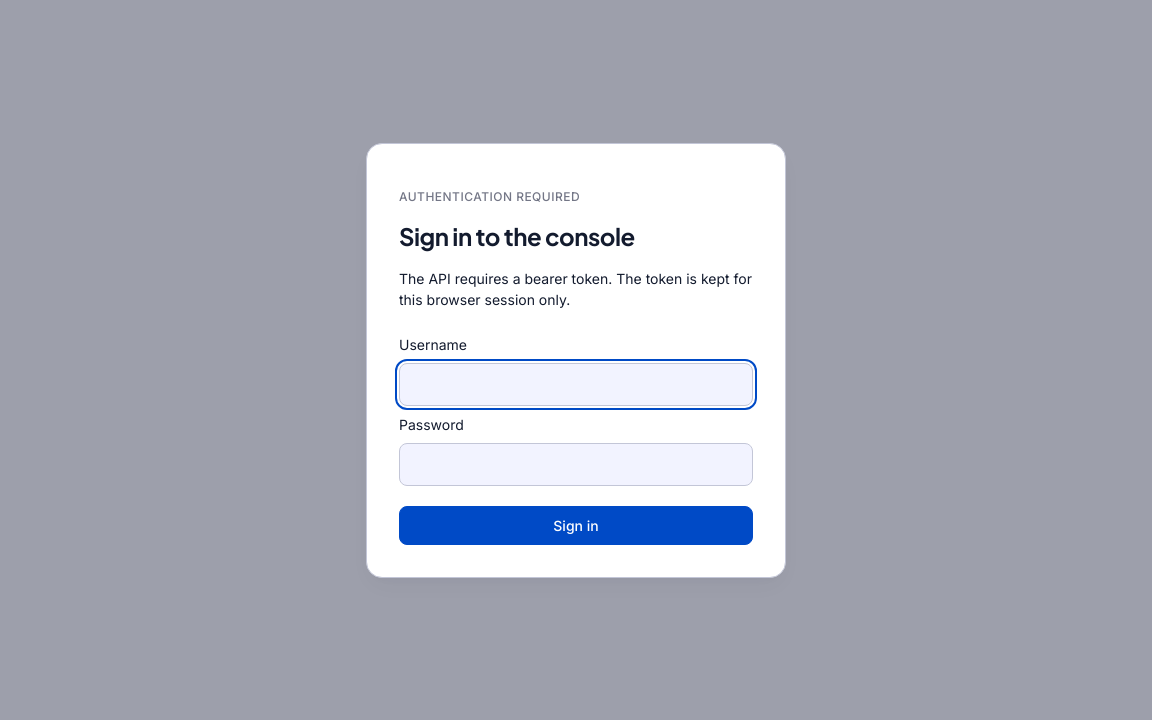
SignIn › explains a missing field before calling the API
Click the button "Sign in": (576, 525) [399,506,753,544]
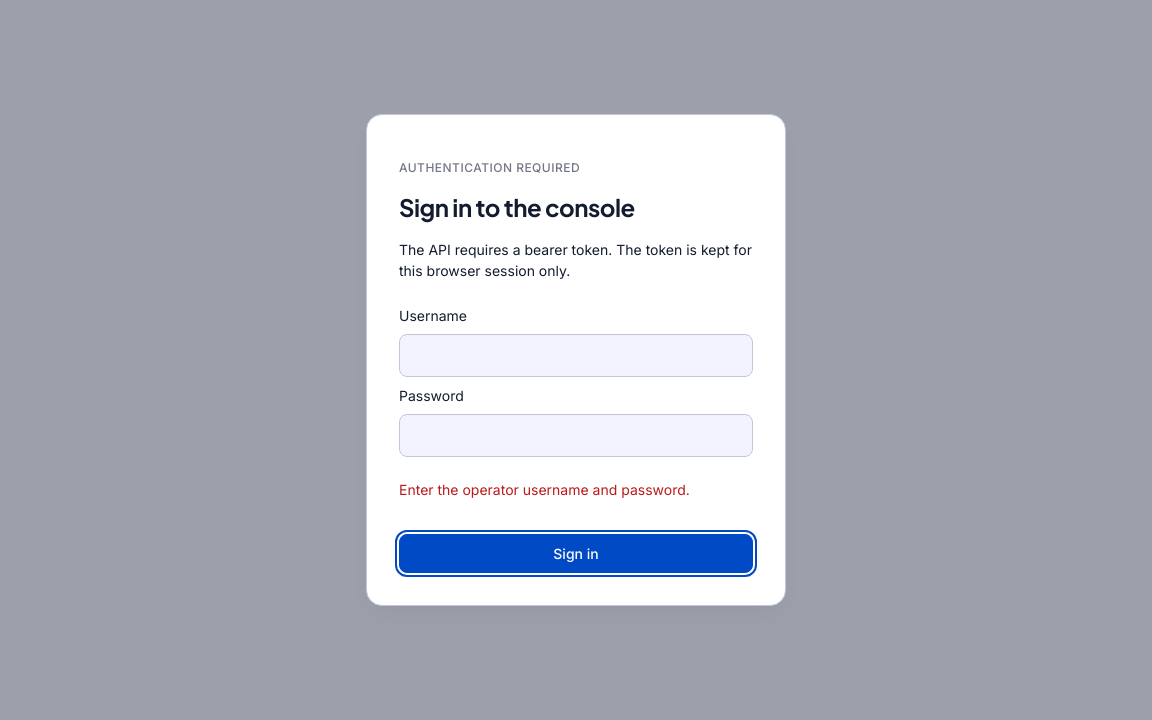
Result: the message shows "username and password" at [399,481,690,498]
